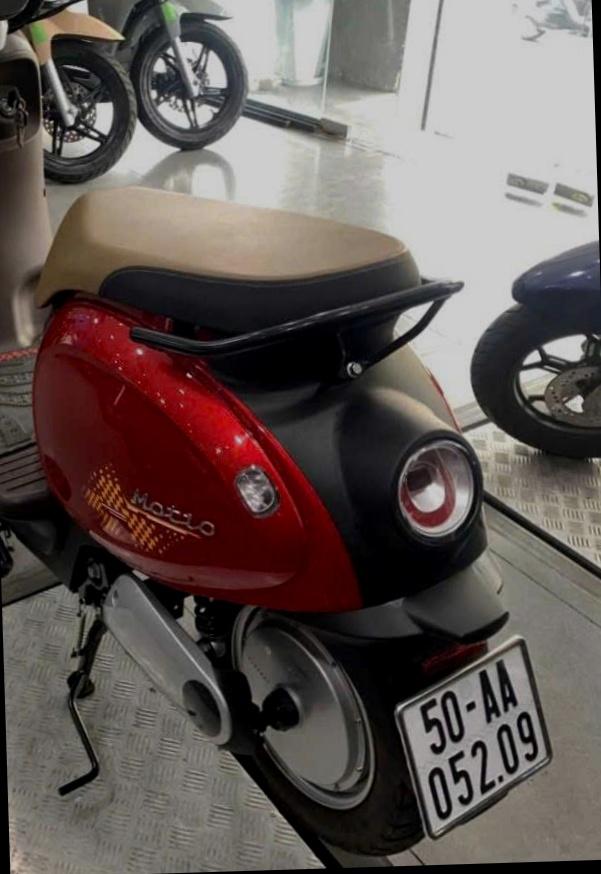Bien-so: (386, 640, 564, 843)
